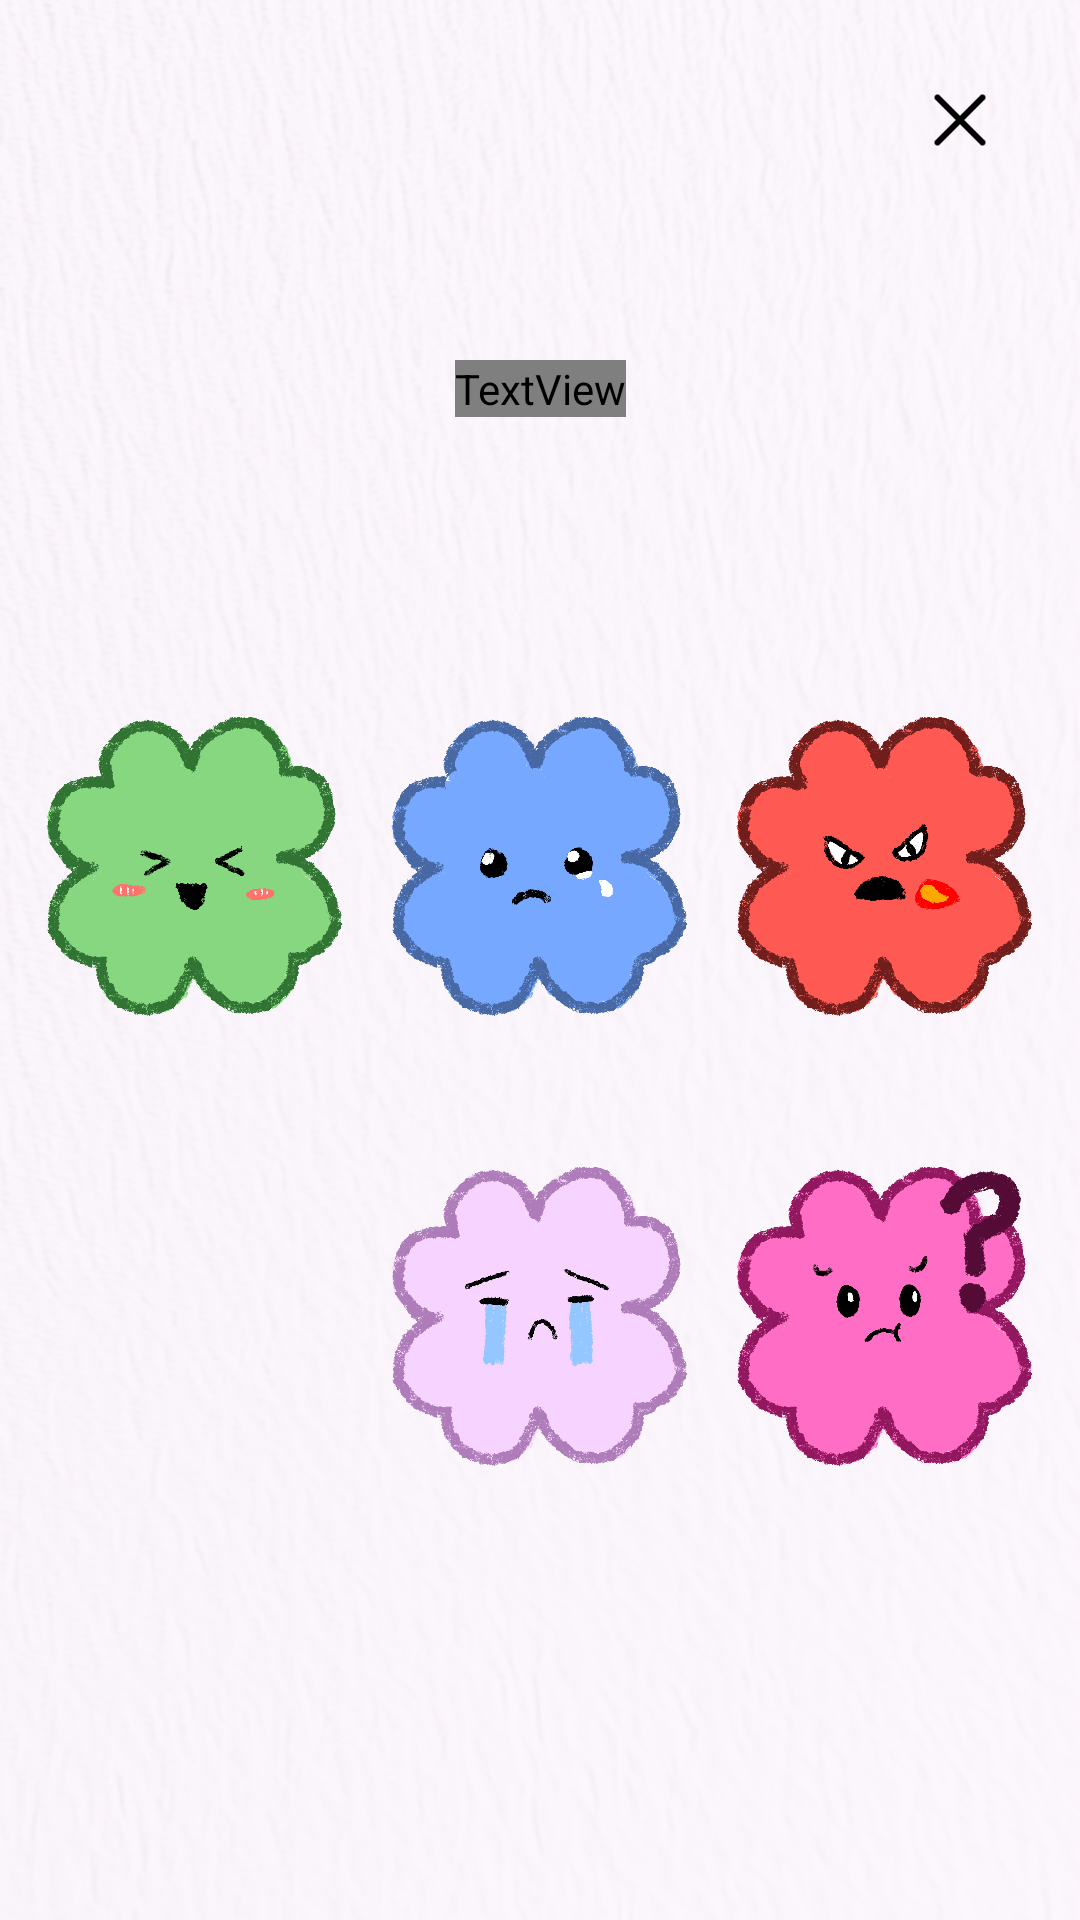

Named icons in this screenshot (1080px x 1920px) and their bounding boxes, (x1, y1, x2, y2):
angry: (736, 717, 1033, 1016)
cancel: (934, 94, 986, 146)
happy: (46, 717, 343, 1016)
worried: (736, 1167, 1033, 1466)
